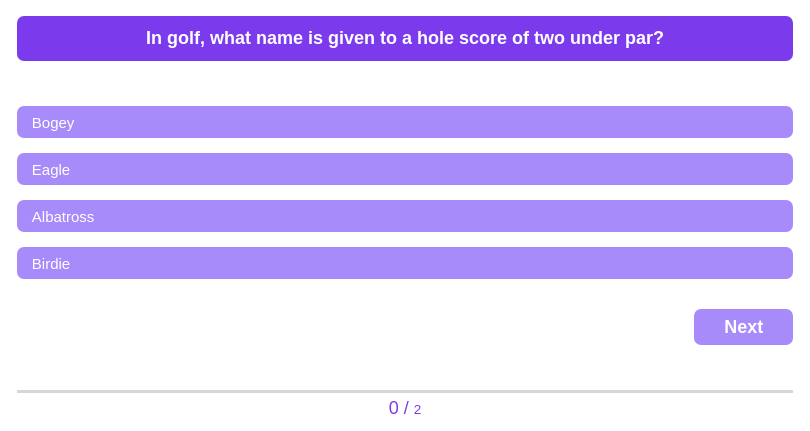
Test: PageQuestions › Section questions › should apply the green color to the correct answer and the button is active
This screenshot has width=810, height=431.
expect the button "Next" is disabled: met, box [694,309,793,345]
Click the button "Eagle" at coordinates (51, 169), box [17,153,793,185]
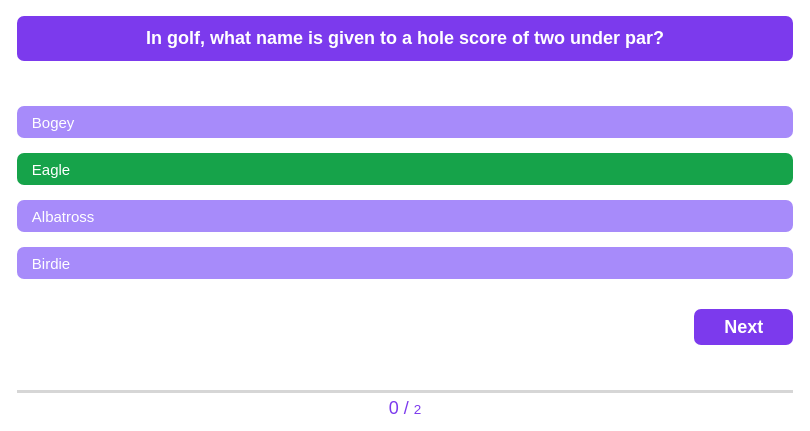
expect the button "Next" is enabled: met, box [694,309,793,345]
expect the button "Eagle" is disabled: met, box [17,153,793,185]
